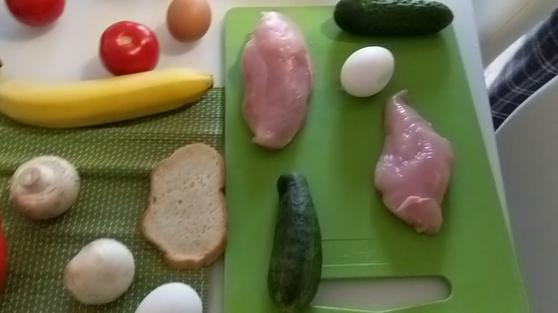banana: (1, 70, 220, 126)
champignon: (8, 152, 84, 222), (62, 235, 135, 307)
chicken_fillet: (220, 11, 321, 153), (374, 92, 466, 234)
cucumber: (269, 171, 324, 313), (336, 1, 454, 38)
egg: (339, 44, 399, 97), (132, 274, 203, 313), (166, 1, 215, 47)
tomato: (90, 20, 163, 70)
white_bread: (144, 137, 232, 268)
